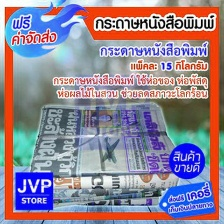news_paper: (24, 101, 182, 206)
